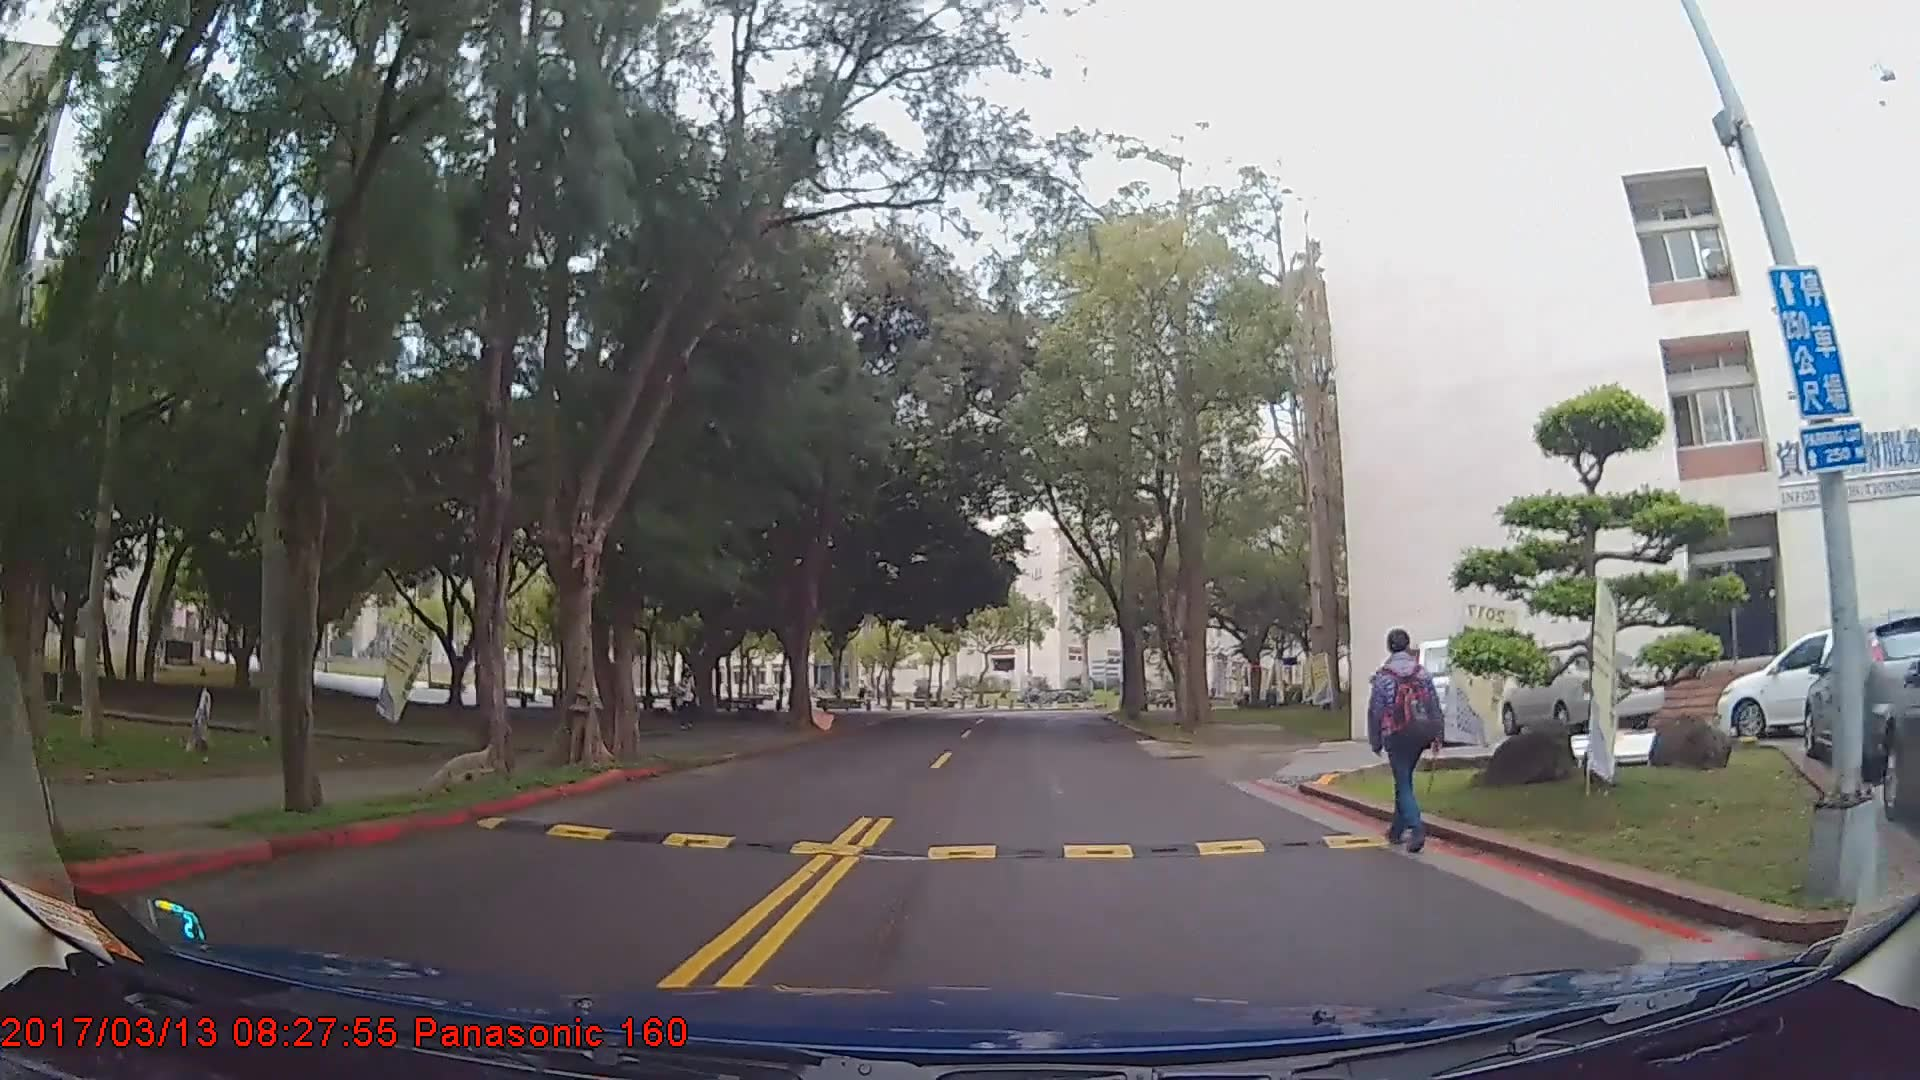pedestrian: (1365, 622, 1445, 853), (674, 668, 702, 732)
vehicle: (1715, 628, 1883, 739)
